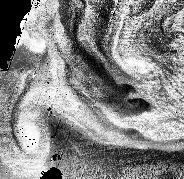CE: (7, 111, 54, 164)
